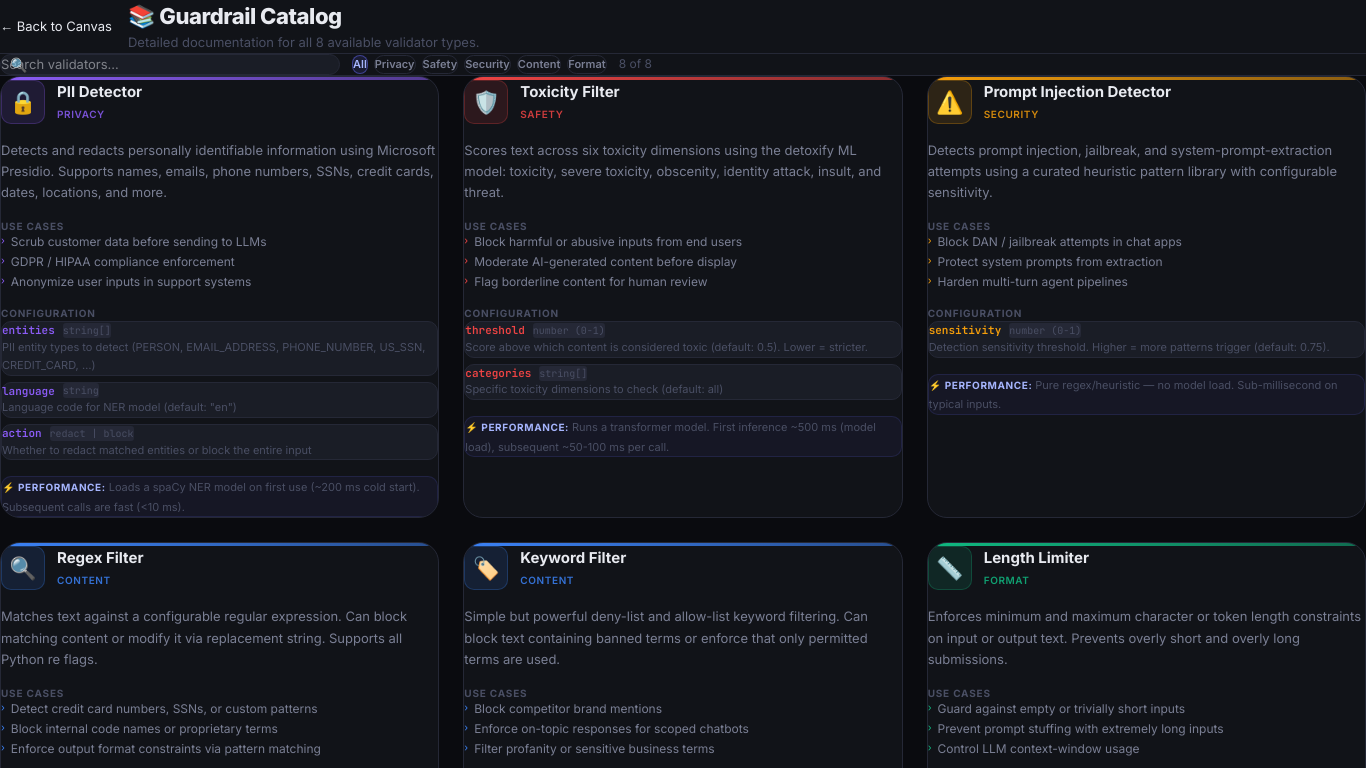
Test: Catalog Page Filtering › filters by search input
In the field with placeholder "Search validators…": (170, 64) x1=0 y1=54 x2=340 y2=75, type "prompt"
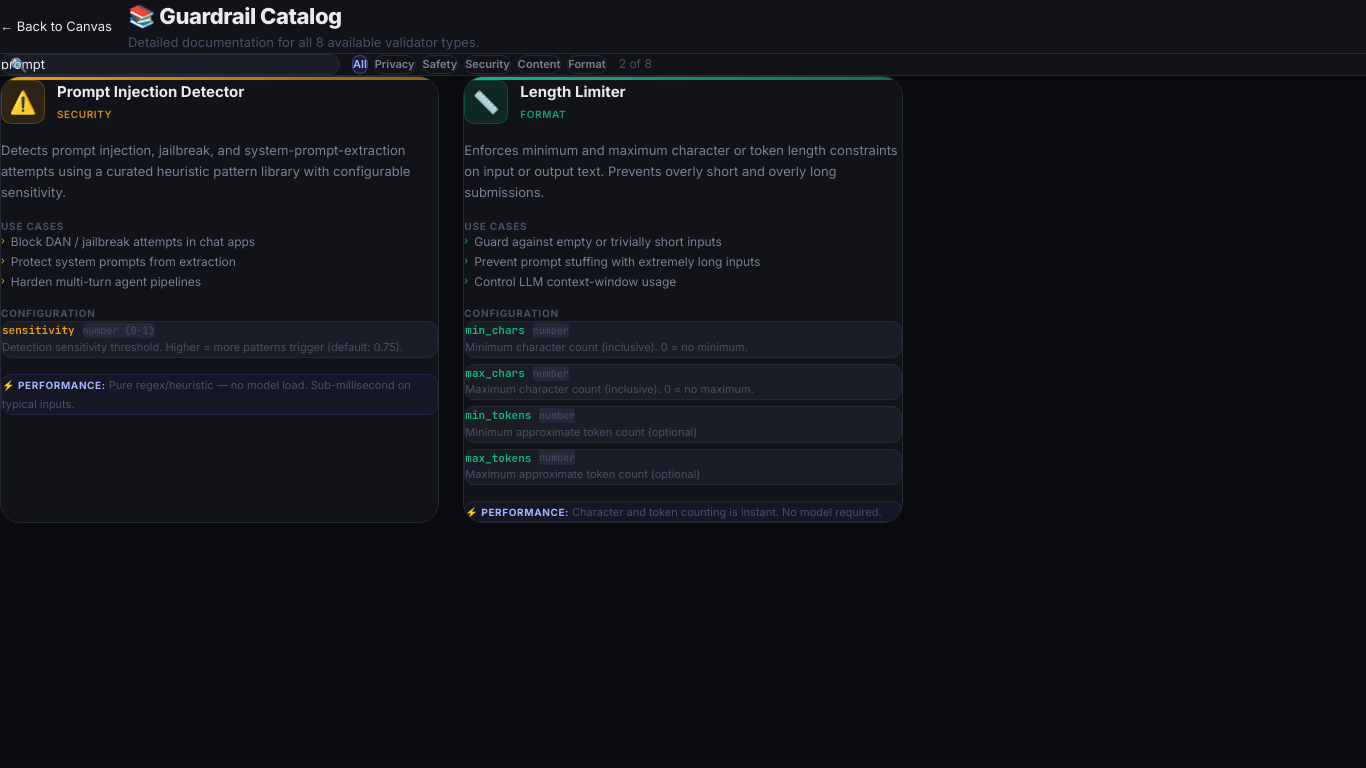
Check: the heading "Prompt Injection Detector" is shown, box x1=57 y1=81 x2=244 y2=104
Check: the heading "Toxicity Filter" is gone
Check: the text "2 of 8" is shown, box x1=619 y1=56 x2=652 y2=72
